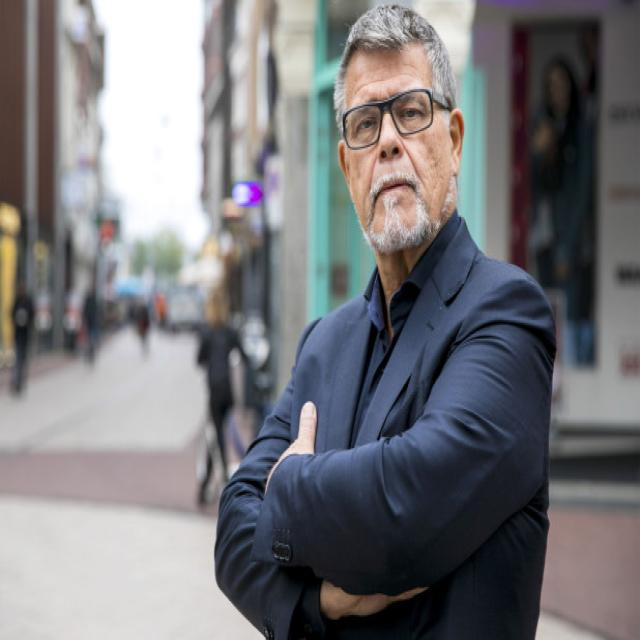human: (212, 0, 563, 640)
